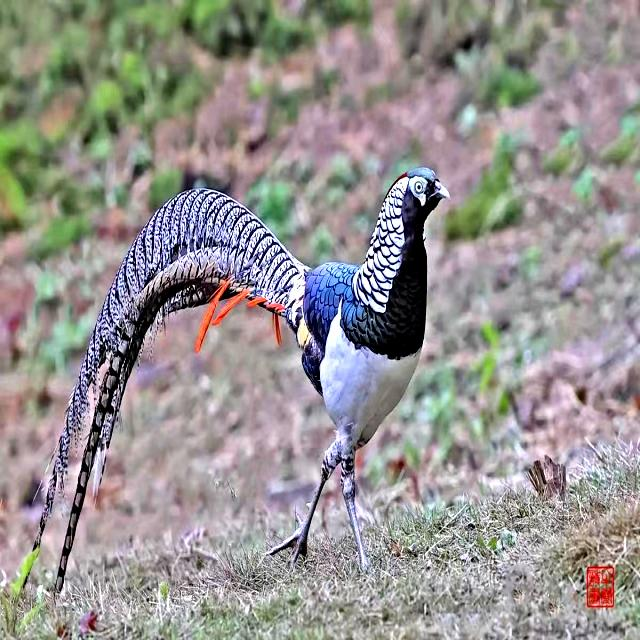Chrysolophus amherstiae: (31, 190, 308, 590), (33, 189, 309, 554)
